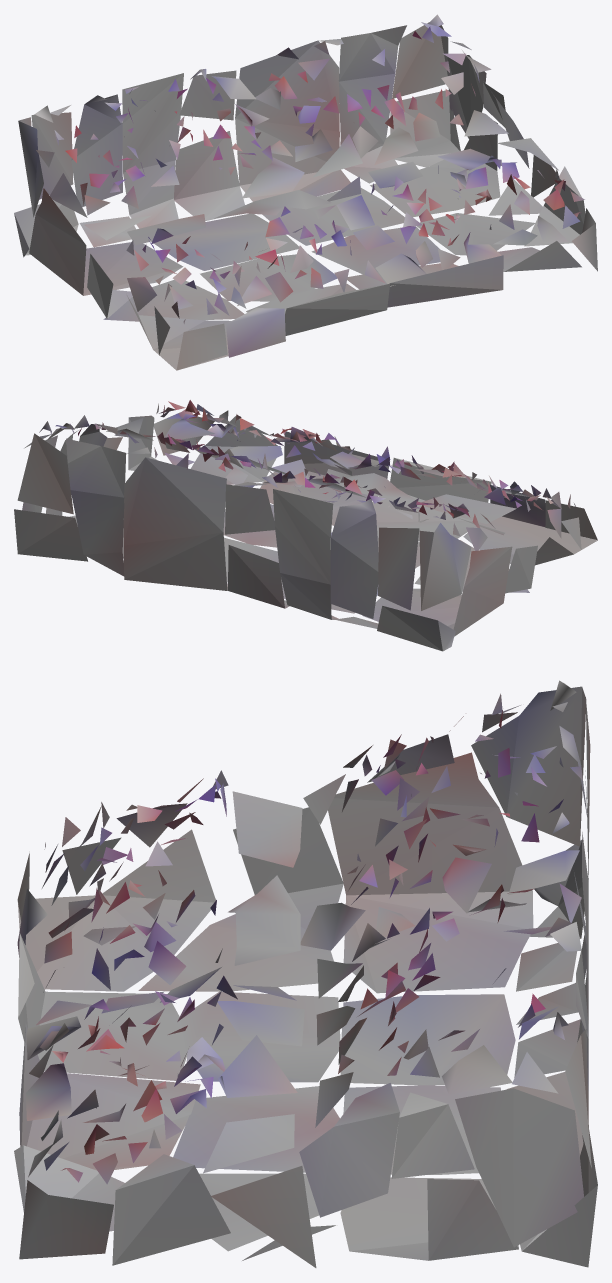
The model's file is bleacher_stand.gltf.
The picture shows the model from 3 angles, top to bottom: view 1: azimuth 30°, elevation 25°; view 2: azimuth 150°, elevation 25°; view 3: azimuth 270°, elevation 25°; orthographic projection. The views are drawn at different scales.
Parts seen in each view (by area): view 1: Mesh_0; view 2: Mesh_0; view 3: Mesh_0.
Part boxes in pixels (bbox=[...]): Mesh_0: bbox=[14, 14, 597, 370]; Mesh_0: bbox=[14, 400, 597, 651]; Mesh_0: bbox=[14, 680, 597, 1267].
Size of the model in its own units: 1.92 by 0.6036 by 1.27.
